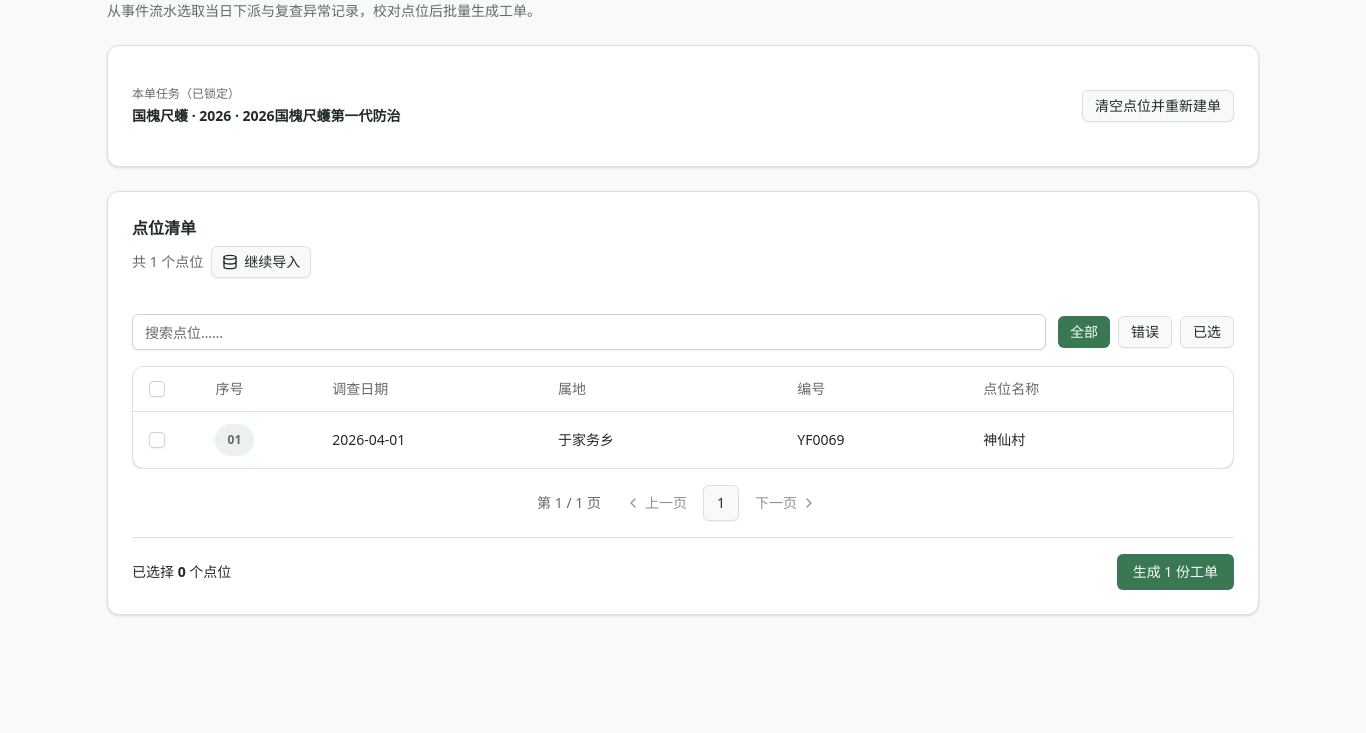
Test: WorkOrderView › 导入后锁定任务并折叠导入面板，清空后可重新建单
Check: the element with test id "workorder-session-task" is shown, box [107,45,1259,167]
Step 1. Click the button with test id "workorder-reset-session" → (1158,106), box [1082,90,1234,122]
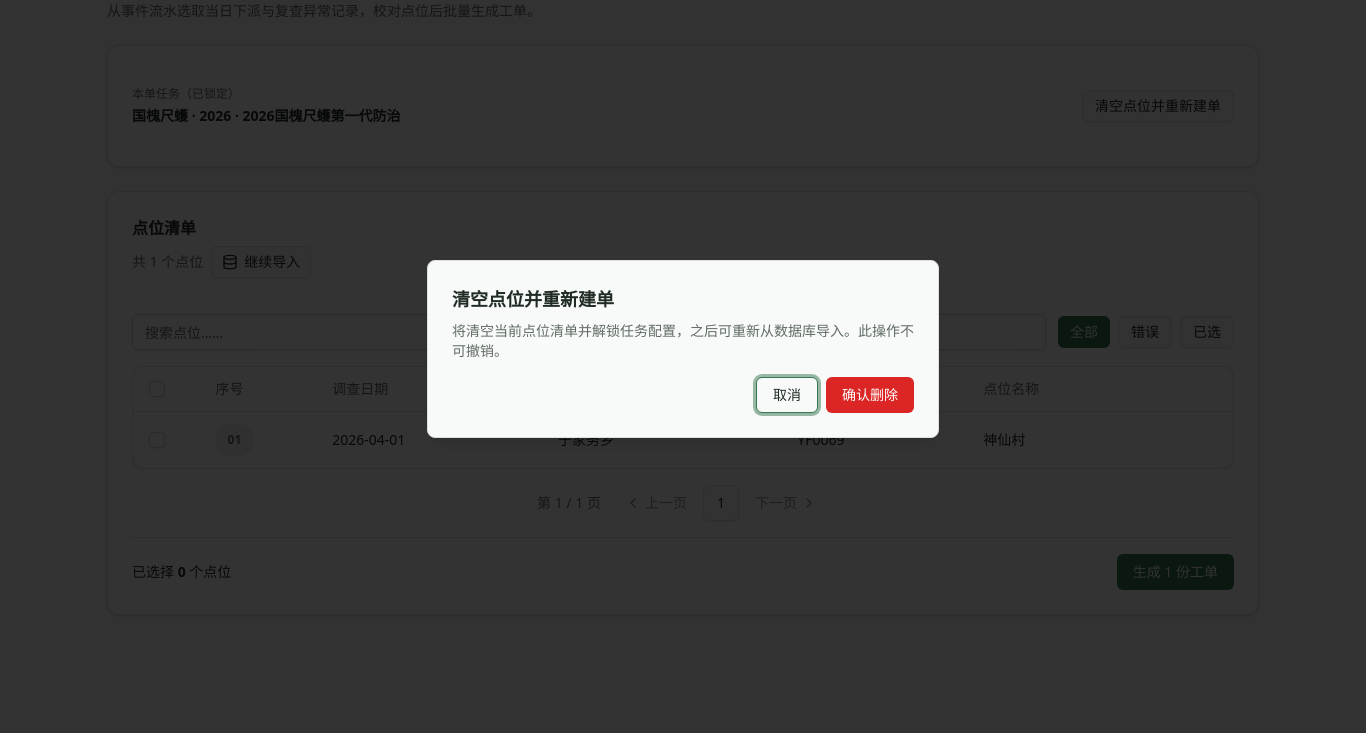
Step 2. Click the button with test id "confirm-dialog-confirm" → (870,395), box [826,377,914,413]
(page scrolled)
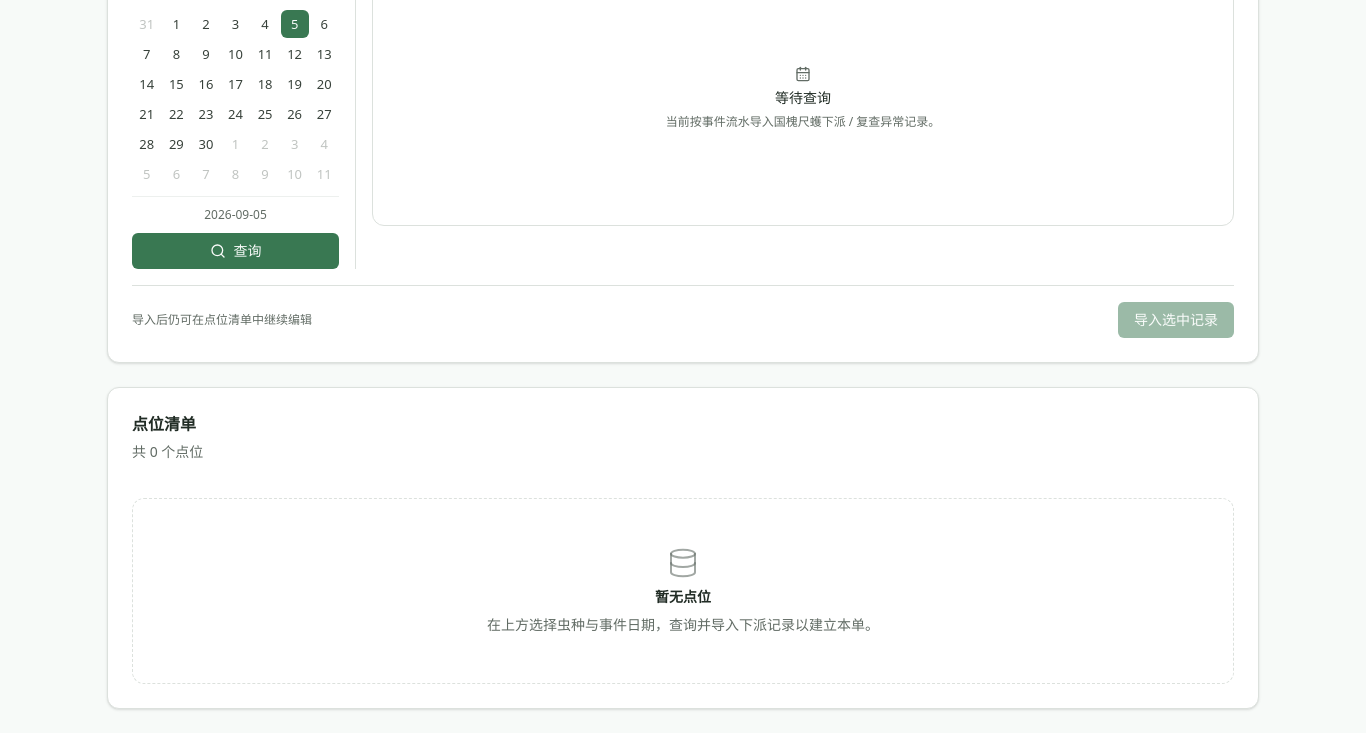
Check: the element with test id "workorder-empty-state" is shown, box [132,498,1234,684]
